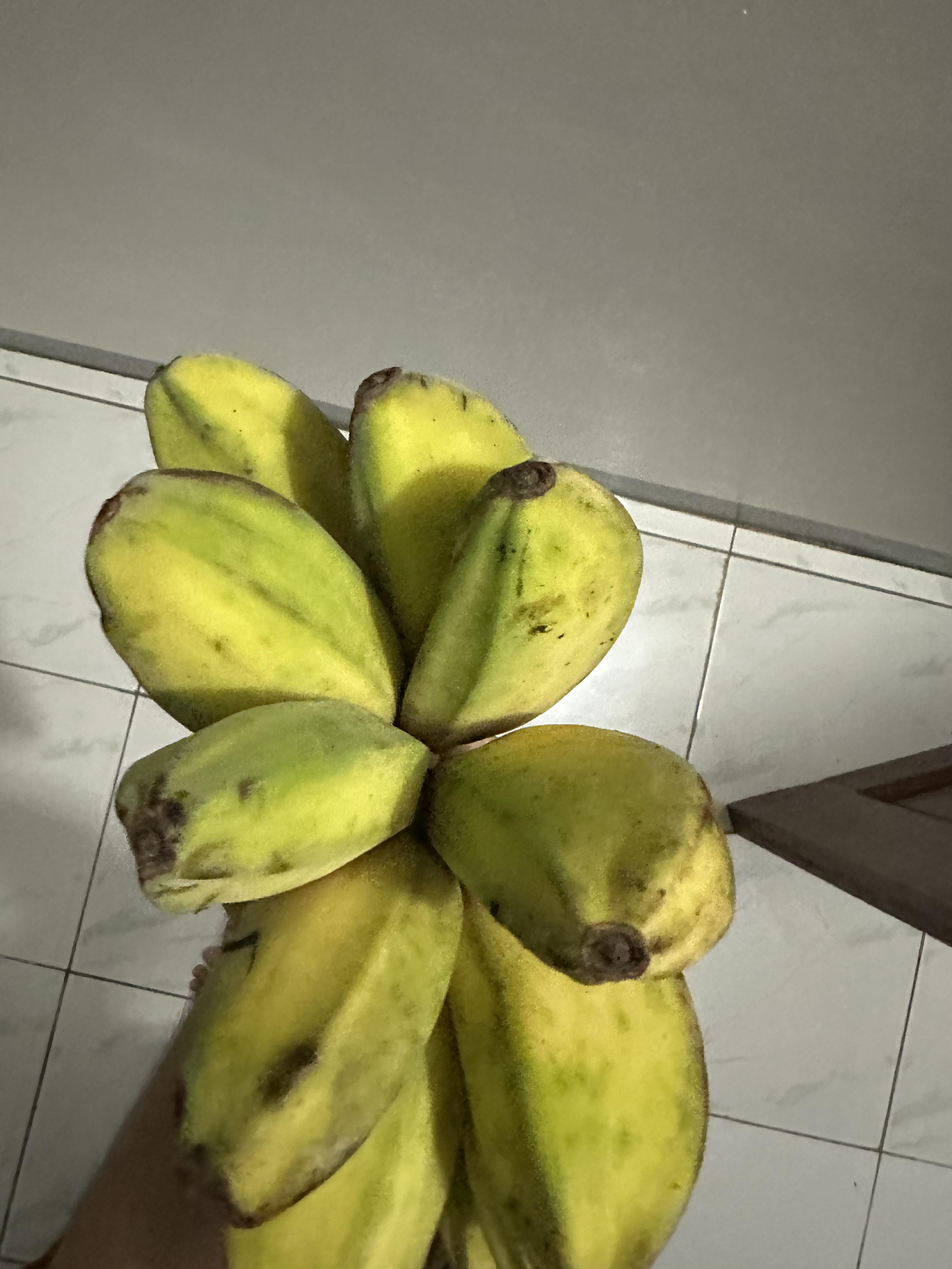underripe: (86, 357, 734, 1269)
